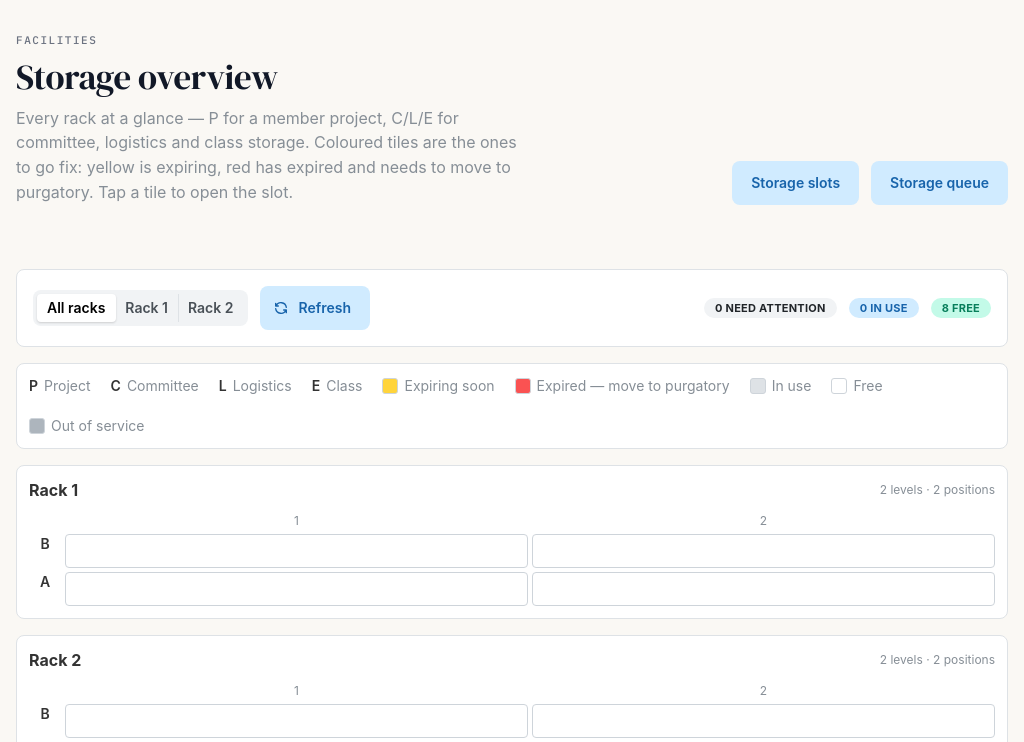
Test: StorageOverviewPage — the grid › narrows to one rack through the endpoint, keeping the other racks selectable
Click the text "Rack 2" in the row of "All racks": x=211, y=307 x1=188 y1=299 x2=234 y2=316
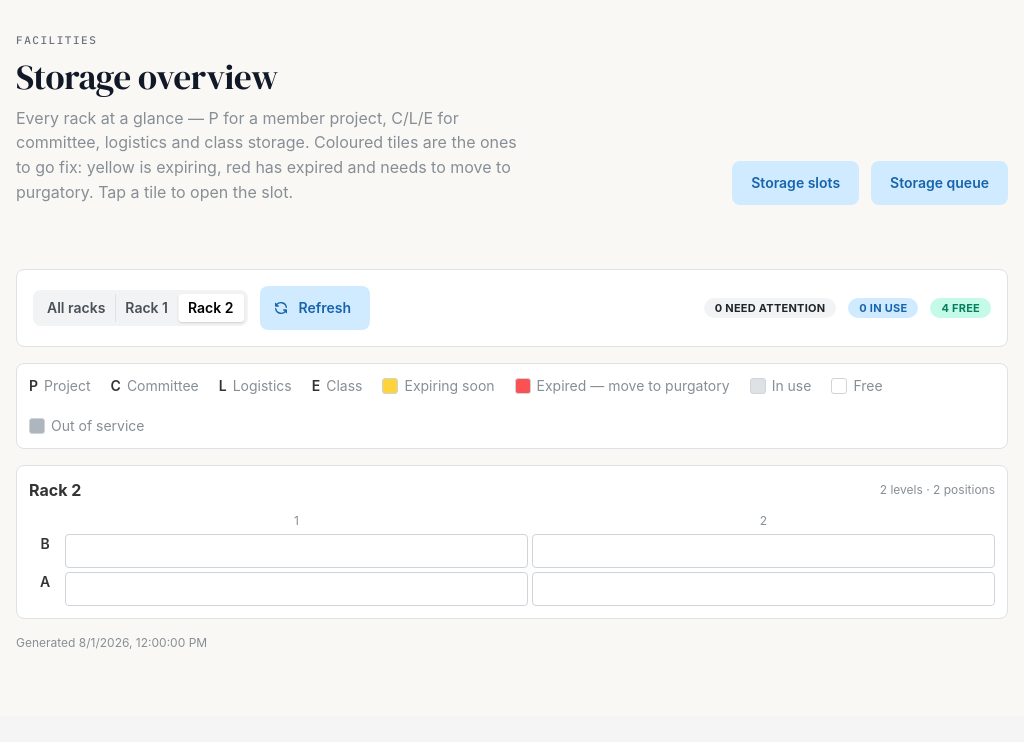
Expected: the text "Rack 1" is shown, x1=125 y1=299 x2=168 y2=316
Expected: the element with test id "rack-grid-1" is gone
